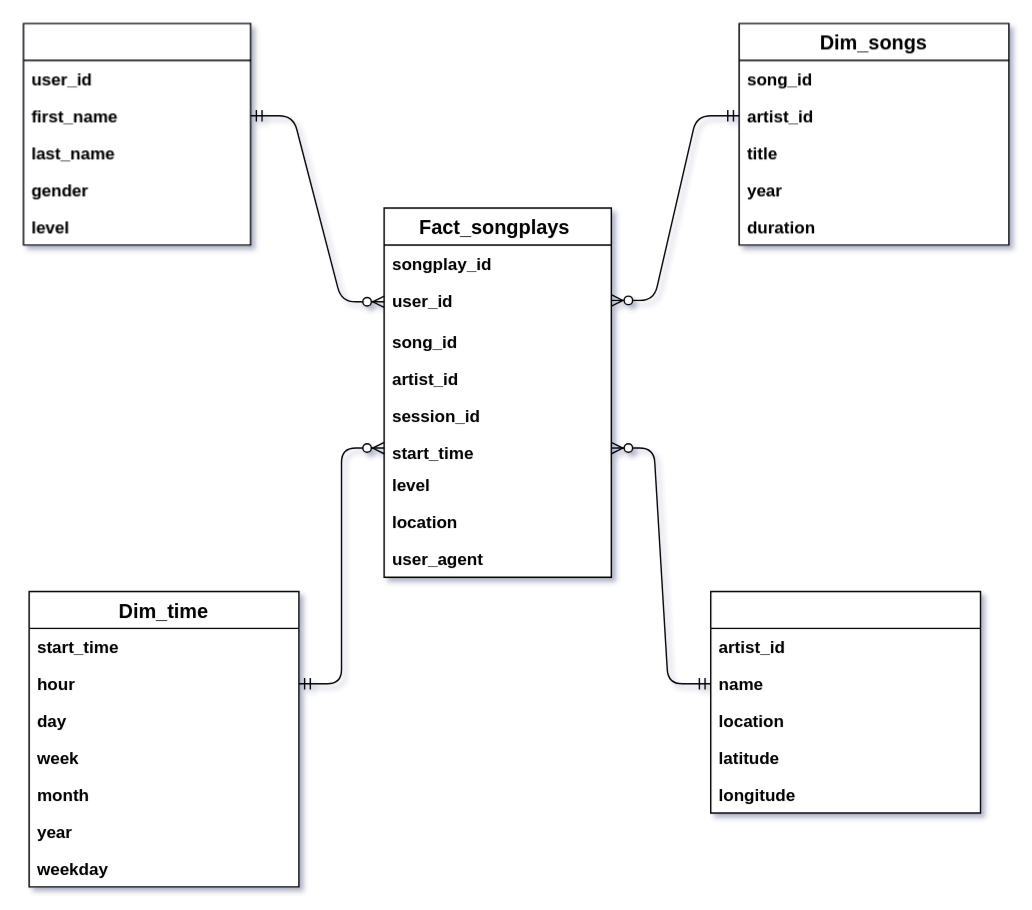
The diagram is 1032 pixels wide and 910 high, and some of its shapes have lost their labels. Here are the shapes that lost their labels. From the top down, the box of each, then its label:
(22, 22, 251, 245): Dim_users
(709, 590, 981, 813): Dim_artists
